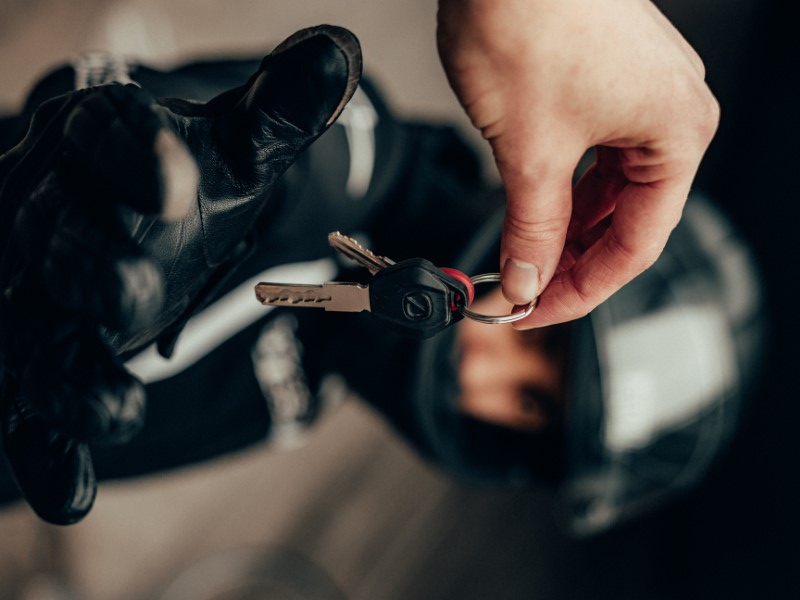carkey: (254, 257, 463, 332)
